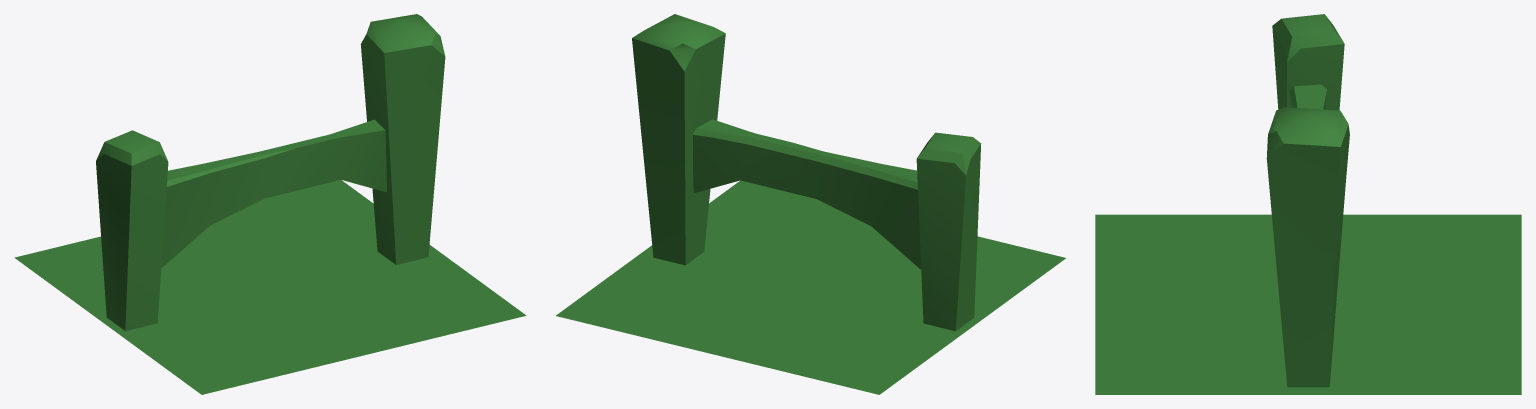
Rendered from OBJ_Barrier_02.FBX.
3 views of the same model, side by side, from view 1: azimuth 30°, elevation 25°; view 2: azimuth 150°, elevation 25°; view 3: azimuth 270°, elevation 25° (orthographic). The views are drawn at different scales.
Parts seen in each view (by area): view 1: OBJ_Barrier_02; view 2: OBJ_Barrier_02; view 3: OBJ_Barrier_02.
Boxes of the visible parts, x1=… form: OBJ_Barrier_02: x1=14, y1=14, x2=526, y2=394; OBJ_Barrier_02: x1=556, y1=14, x2=1065, y2=394; OBJ_Barrier_02: x1=1095, y1=14, x2=1521, y2=394.
Size of the model in its own units: 6.1 by 4.11 by 6.
